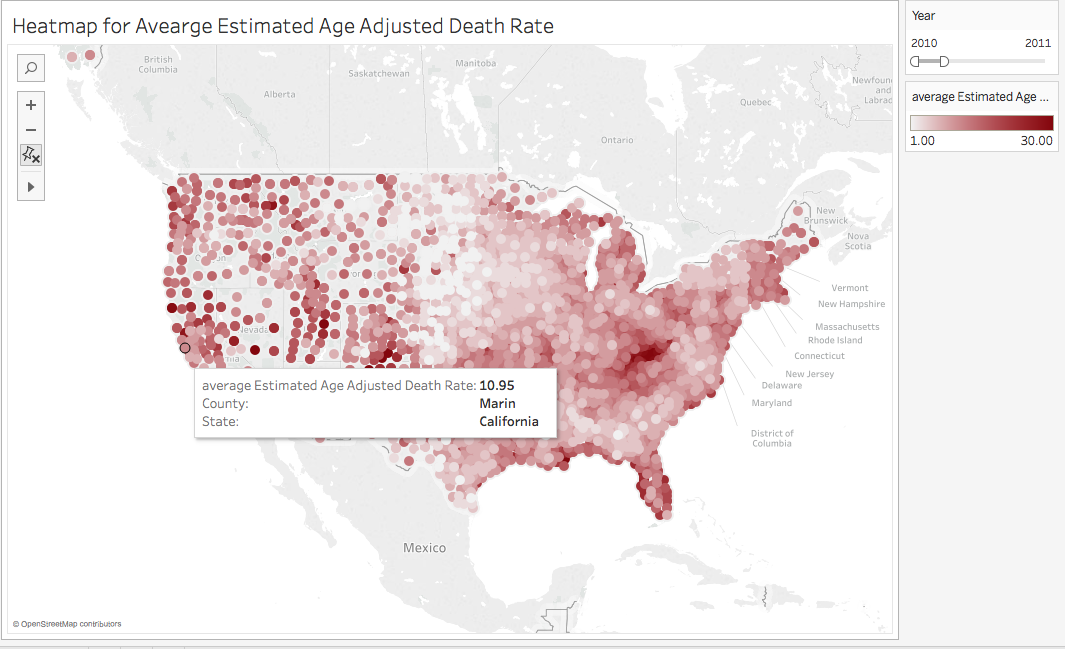

What the dashboard file says about the page in this screenshot:
{"tool":"tableau","page":{"name":"Dashboard 1","canvas":[1000,800],"ordinal":0},"visuals":[{"type":"worksheet","title":"Sheet 1","mark":"Automatic","box":[8,8,412,392]},{"type":"worksheet","title":"Sheet 2","mark":"Automatic","box":[420,8,412,392]},{"type":"filter","title":"Sheet 1","param":"[federated.0f929zn0s5mrwe111s5kz0x24r3h].[none:Year:qk]","box":[832,8,160,69]},{"type":"legend","title":"Sheet 1","param":"[federated.0f929zn0s5mrwe111s5kz0x24r3h].[none:average_Estimated_Age_Adjusted_De","box":[832,77,160,65]},{"type":"filter","title":"Sheet 2","param":"[federated.0f929zn0s5mrwe111s5kz0x24r3h].[none:State:nk]","box":[832,142,160,520]},{"type":"worksheet","title":"Sheet 4","mark":"Automatic","box":[8,400,824,392]},{"type":"legend","title":"Sheet 2","param":"[federated.0f929zn0s5mrwe111s5kz0x24r3h].[sum:average_Estimated_Age_Adjusted_Dea","box":[832,662,160,65]},{"type":"legend","title":"Sheet 4","param":"[federated.1wfyzk3080qxny16i03qy0ygic82].[sum:Avg:qk]","box":[832,727,160,65]}]}

Visuals, with their boxes on the page's 1000x800 design canvas (x1, y1, x2, y2). These are canvas units, not pixel positions in the 1065x649 screenshot, which may show the page scaled, cropped or inside an application window:
"Sheet 1" worksheet: rect(8, 8, 420, 400)
"Sheet 2" worksheet: rect(420, 8, 832, 400)
"Sheet 1" filter: rect(832, 8, 992, 77)
"Sheet 1" legend: rect(832, 77, 992, 142)
"Sheet 2" filter: rect(832, 142, 992, 662)
"Sheet 4" worksheet: rect(8, 400, 832, 792)
"Sheet 2" legend: rect(832, 662, 992, 727)
"Sheet 4" legend: rect(832, 727, 992, 792)
